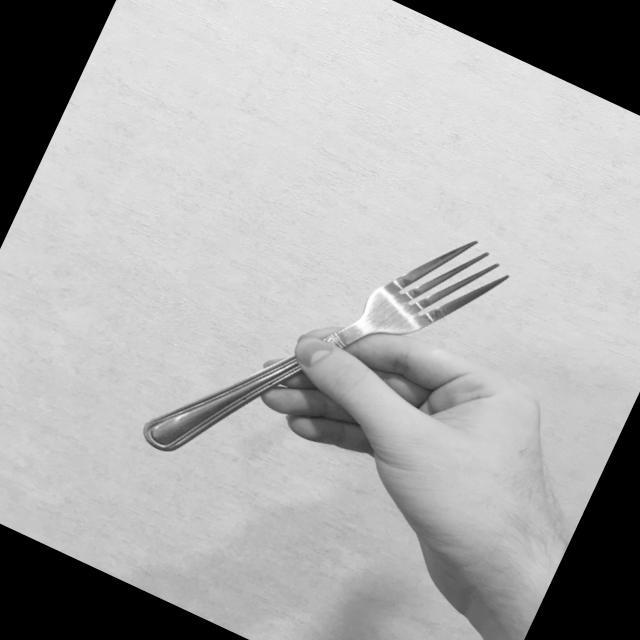fork: (136, 145, 520, 555)
